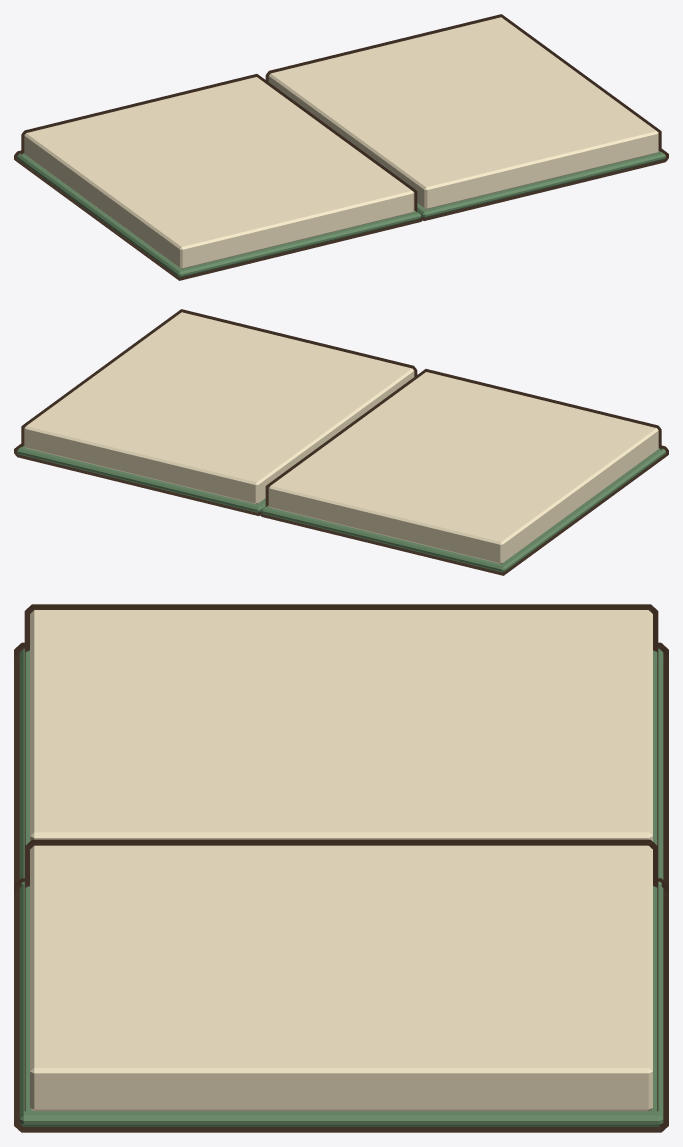
The model's file is livro-aberto.glb.
3 renders of one model, top to bottom at view 1: azimuth 30°, elevation 25°; view 2: azimuth 150°, elevation 25°; view 3: azimuth 270°, elevation 25°, orthographic. The views are drawn at different scales.
Visible parts, largest first — view 1: livro-aberto, livro-aberto_outline; view 2: livro-aberto, livro-aberto_outline; view 3: livro-aberto, livro-aberto_outline.
Part boxes in pixels (x1,y1,x2,y2): livro-aberto: (17, 17, 665, 277); livro-aberto_outline: (14, 14, 668, 280); livro-aberto: (17, 312, 665, 572); livro-aberto_outline: (14, 309, 668, 575); livro-aberto: (19, 610, 663, 1126); livro-aberto_outline: (14, 604, 668, 1132).
Bounding box in the file's own units: 0.5323 × 0.0338 × 0.3103.
